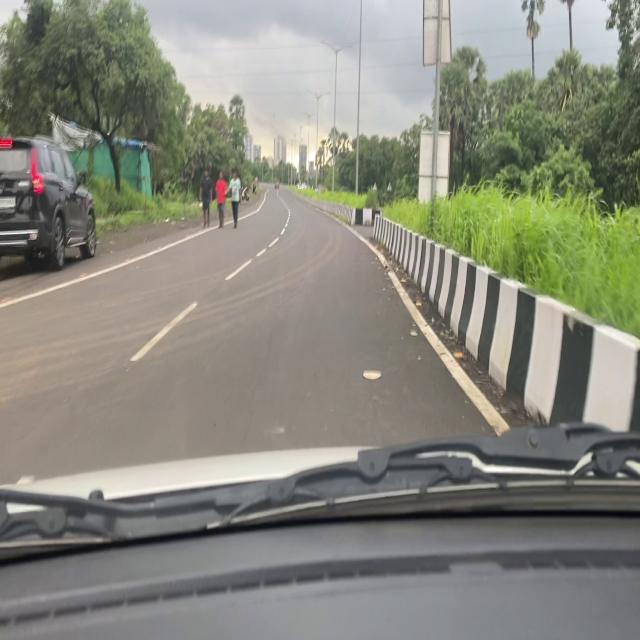lane: (329, 209, 518, 436), (1, 198, 270, 315), (134, 228, 295, 370)
